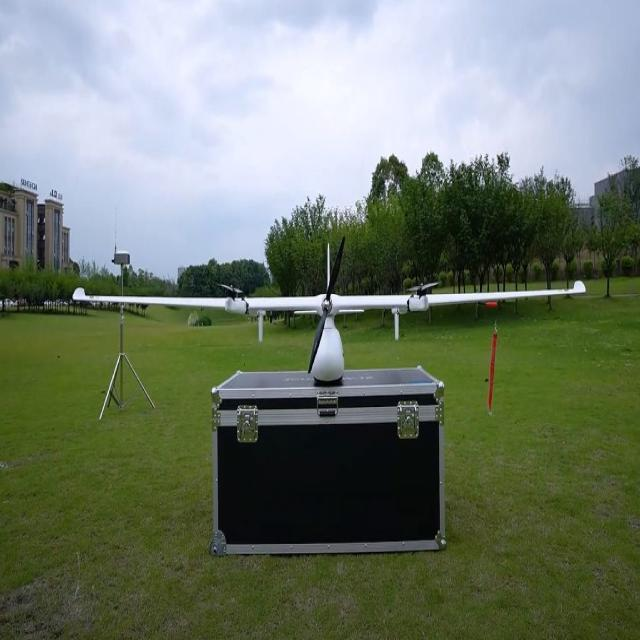iha: (65, 305, 578, 344)
